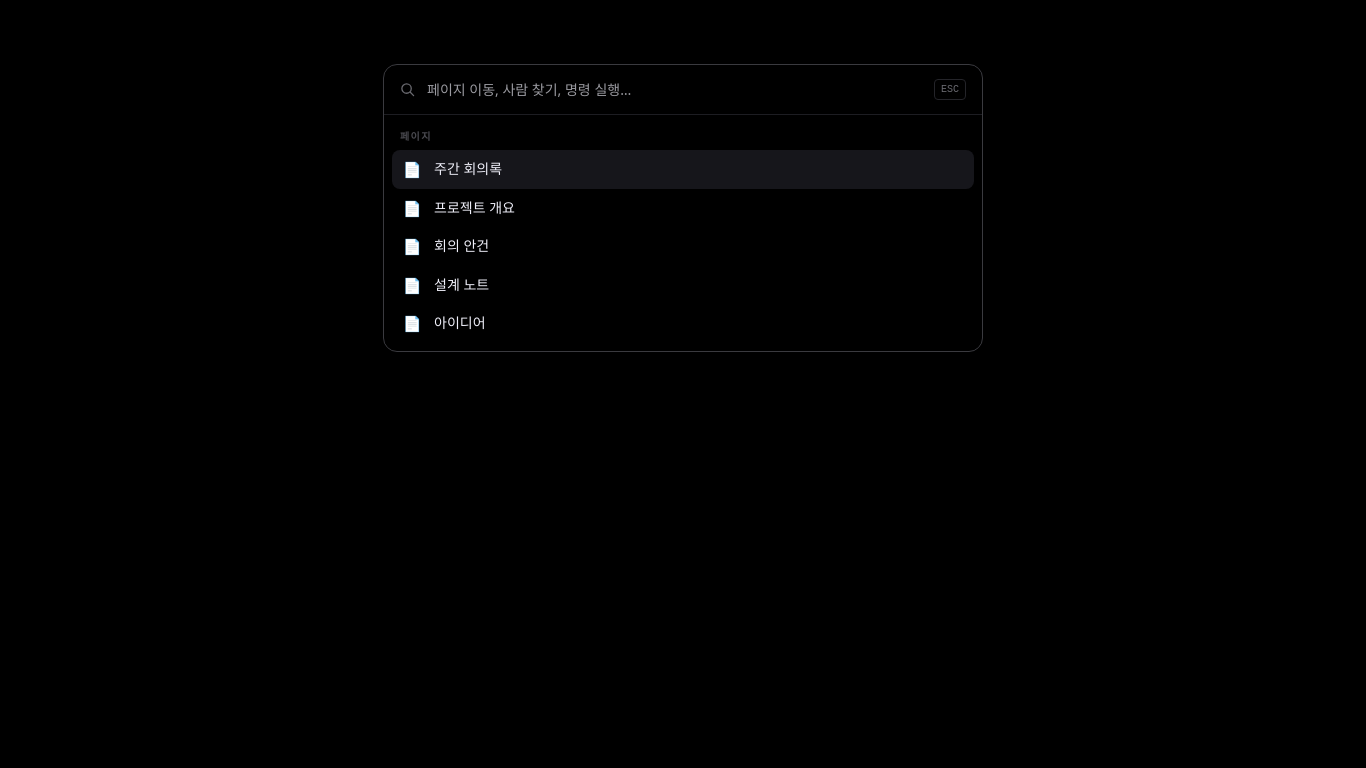
Scenario: CommandPaletteContainer › 수정1: 검색 결과가 없으면 "검색 결과가 없습니다" 안내를 노출한다
The image size is (1366, 768).
// 어떤 제목에도 없는 검색어 → 후보 0개.
In the field named "명령 검색": (674, 90) [427,80,922,100], type "zzz없는검색어"
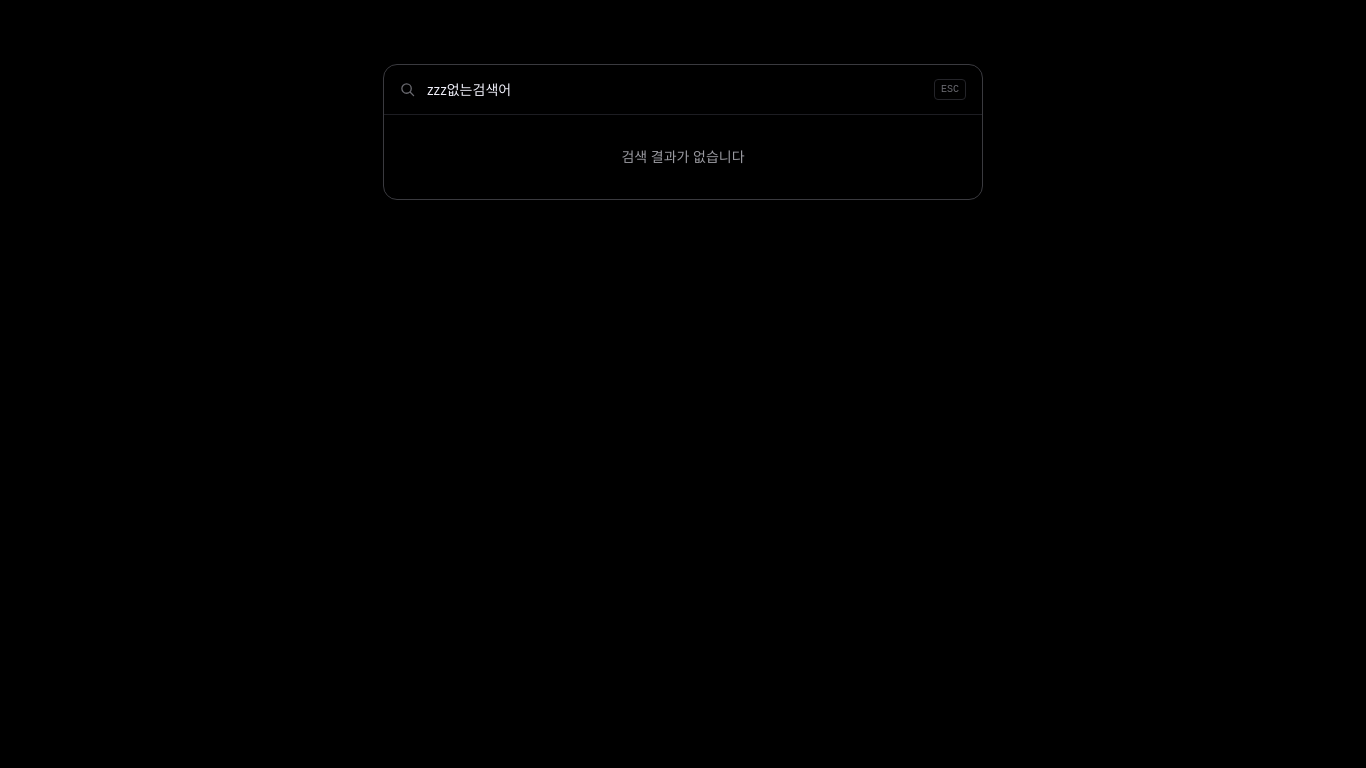
Check: the text "검색 결과가 없습니다" is shown, box [621,147,745,166]
Check: no buttons are shown
